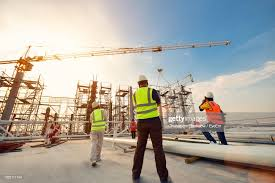helmet: (136, 73, 146, 81), (205, 91, 213, 99), (92, 101, 98, 108)
vest: (134, 91, 161, 117), (205, 103, 225, 126), (92, 110, 104, 132)
